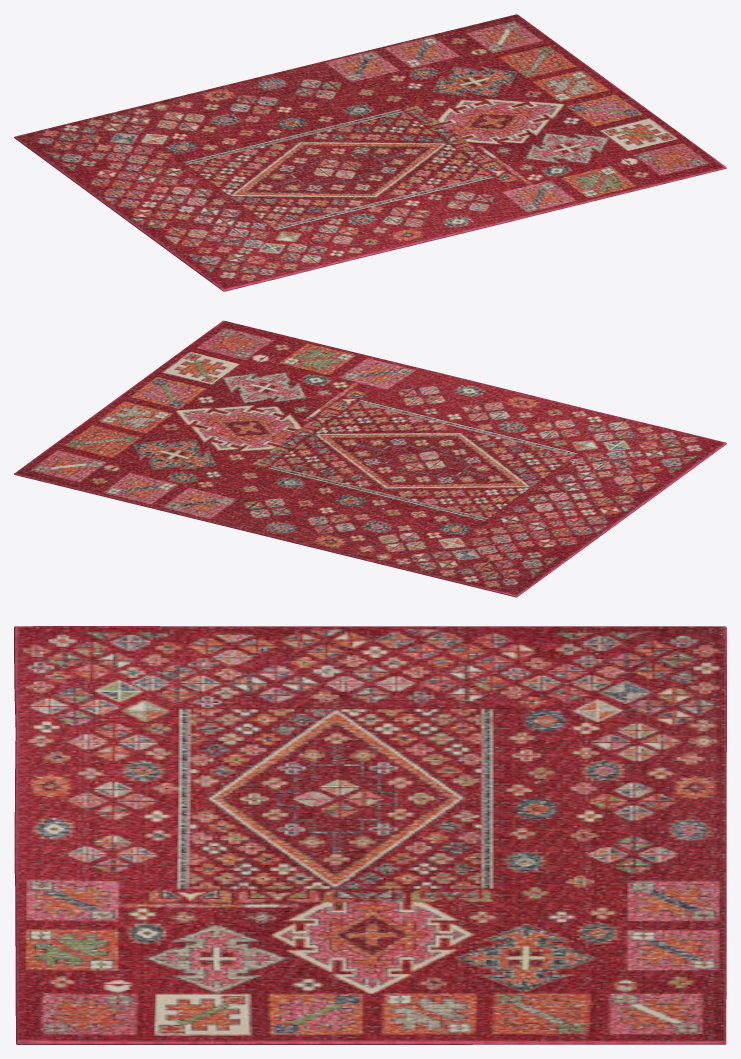
The model's file is B0719STLRW.glb.
The picture shows the model from 3 angles, top to bottom: view 1: azimuth 30°, elevation 25°; view 2: azimuth 150°, elevation 25°; view 3: azimuth 270°, elevation 25°; orthographic projection. The views are drawn at different scales.
Parts seen in each view (by area): view 1: RootNode; view 2: RootNode; view 3: RootNode.
Boxes of the visible parts, x1,y1,x2,y2 form: RootNode: (14, 14, 726, 291); RootNode: (14, 320, 726, 597); RootNode: (14, 626, 726, 1044).
Bounding box in the file's own units: 3.31 × 0.0112 × 2.39.
Materials: 1 (1 with a texture image).
